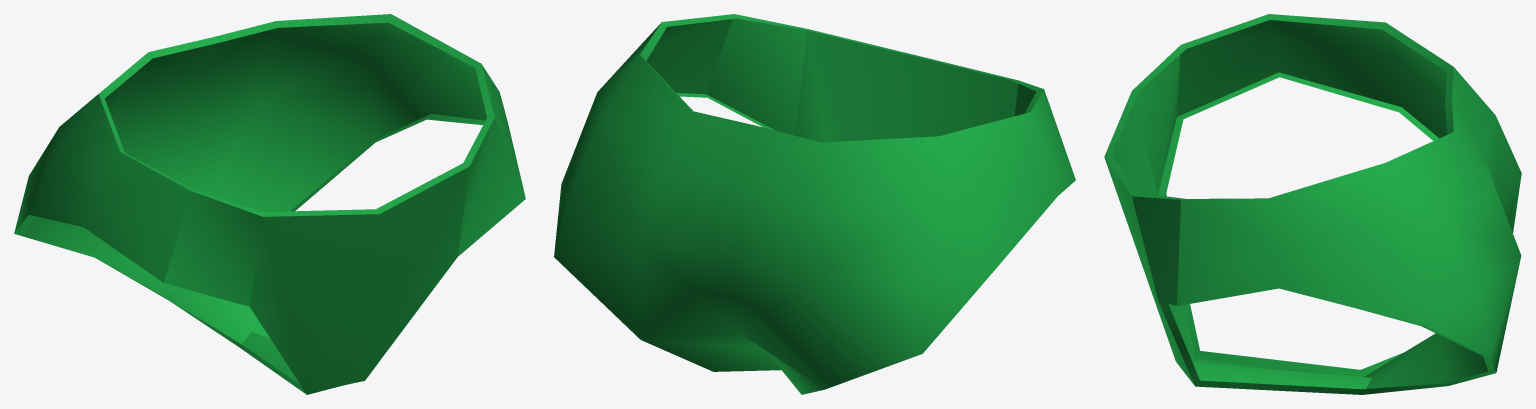
The model's file is Bikini03.fbx.
The picture shows the model from 3 angles, left to right: view 1: azimuth 30°, elevation 25°; view 2: azimuth 150°, elevation 25°; view 3: azimuth 270°, elevation 25°; orthographic projection. The views are drawn at different scales.
Parts seen in each view (by area): view 1: Bikini03; view 2: Bikini03; view 3: Bikini03.
Boxes of the visible parts, left/top/right/bottom form: Bikini03: left=14, top=14, right=525, bottom=394; Bikini03: left=554, top=14, right=1075, bottom=394; Bikini03: left=1104, top=14, right=1521, bottom=394.
Size of the model in its own units: 33.48 by 21.53 by 27.31.
